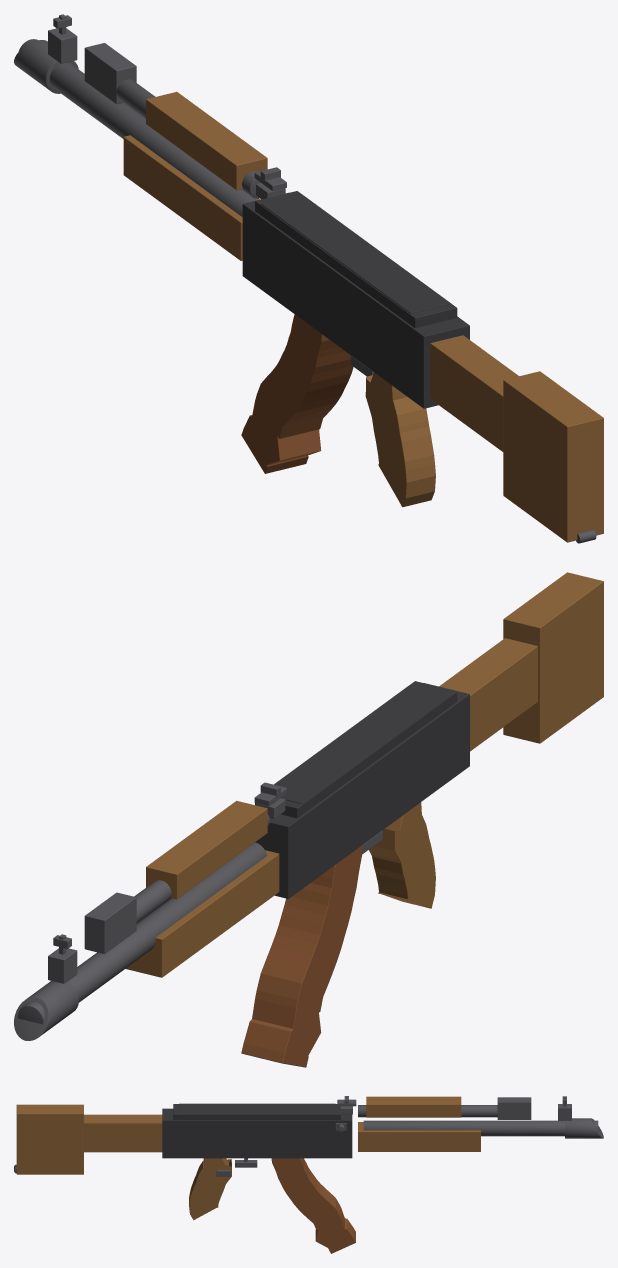
The model's file is ak_viewmodel.glb.
The picture shows the model from 3 angles, top to bottom: view 1: azimuth 30°, elevation 25°; view 2: azimuth 150°, elevation 25°; view 3: azimuth 270°, elevation 25°; orthographic projection. The views are drawn at different scales.
Parts seen in each view (by area): view 1: ak_viewmodel; view 2: ak_viewmodel; view 3: ak_viewmodel.
Boxes of the visible parts, x1,y1,x2,y2 form: ak_viewmodel: (14, 14, 603, 543); ak_viewmodel: (14, 572, 603, 1067); ak_viewmodel: (14, 1096, 603, 1253).
Size of the model in its own units: 0.061 by 0.2998 by 1.06.
